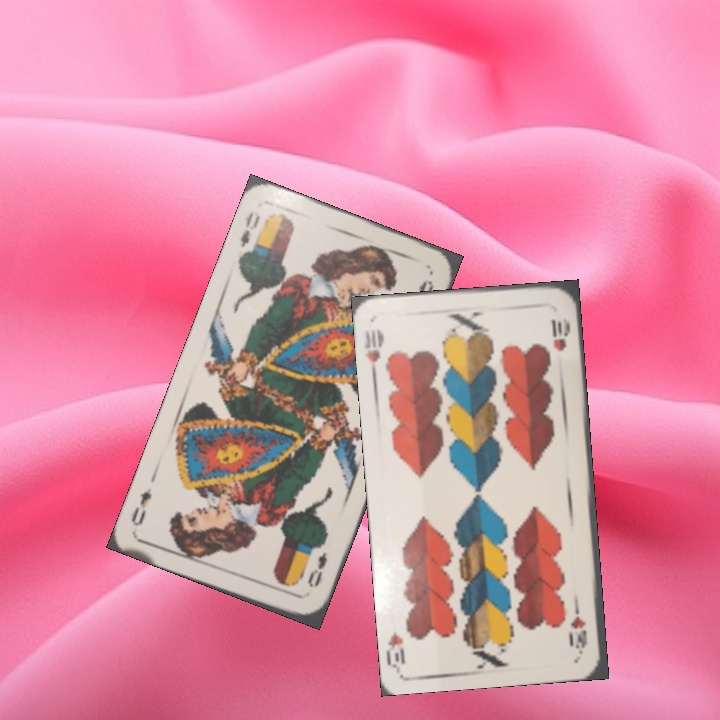EO: (303, 548, 330, 591), (236, 208, 263, 250)
H10: (361, 325, 387, 379), (569, 595, 590, 654)
